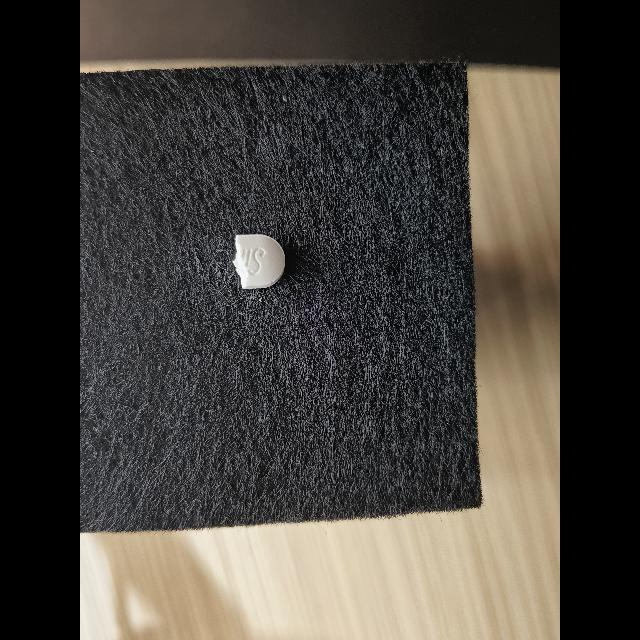Chipped Pill: (233, 234, 285, 289)
